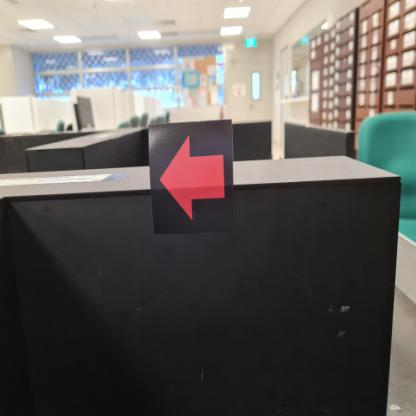left: (148, 120, 236, 238)
